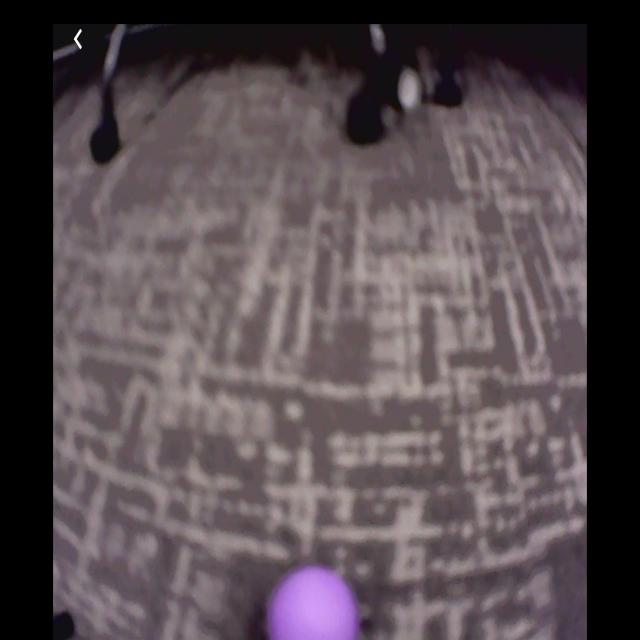ball: (264, 565, 360, 640)
